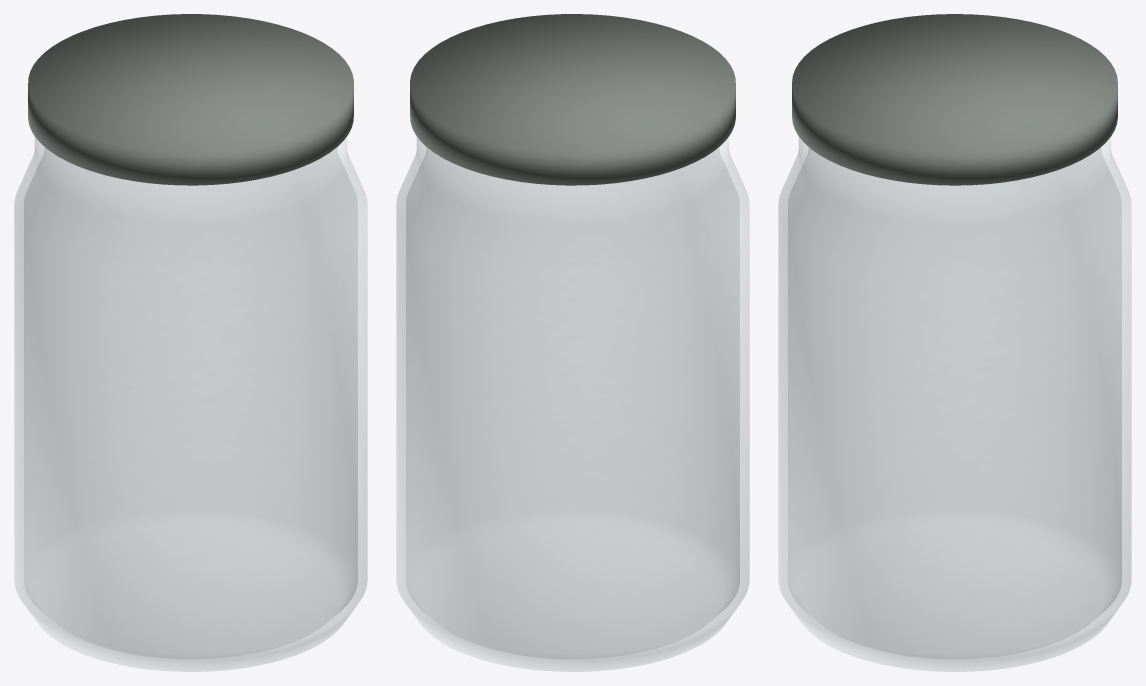
Rendered from intact.glb.
3 views of the same model, side by side, from view 1: azimuth 30°, elevation 25°; view 2: azimuth 150°, elevation 25°; view 3: azimuth 270°, elevation 25° (orthographic).
Parts seen in each view (by area): view 1: glass-jar-component-000-clear, glass-jar-component-001-metal; view 2: glass-jar-component-000-clear, glass-jar-component-001-metal; view 3: glass-jar-component-000-clear, glass-jar-component-001-metal.
Boxes of the visible parts, x1,y1,x2,y2 form: glass-jar-component-000-clear: (14,137,367,671); glass-jar-component-001-metal: (28,14,353,185); glass-jar-component-000-clear: (396,137,749,671); glass-jar-component-001-metal: (410,14,735,185); glass-jar-component-000-clear: (778,137,1131,671); glass-jar-component-001-metal: (792,14,1117,185).
Size of the model in its own units: 0.1043 by 0.17 by 0.1043.
Materials: 2 (2 with a texture image).
